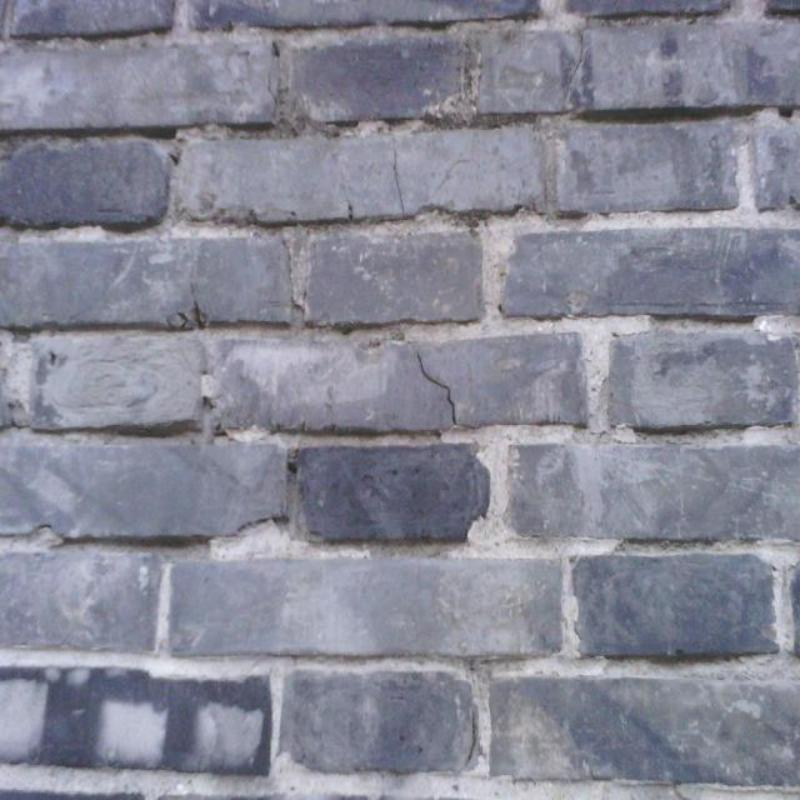pothole: (417, 353, 457, 425), (568, 34, 583, 92), (394, 149, 405, 216), (266, 70, 278, 123), (465, 711, 476, 762), (192, 301, 204, 329), (178, 311, 189, 330), (344, 200, 354, 220)
